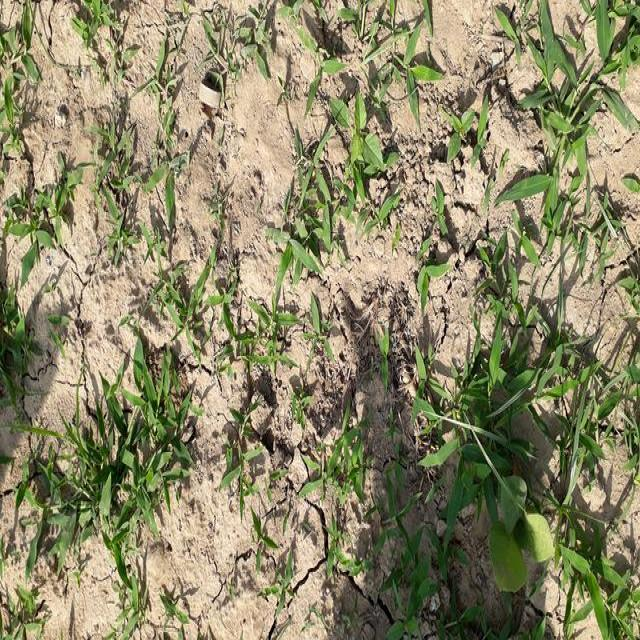weed: (403, 298, 640, 640), (5, 337, 187, 610), (456, 0, 629, 247), (284, 58, 402, 282), (0, 0, 64, 267)
